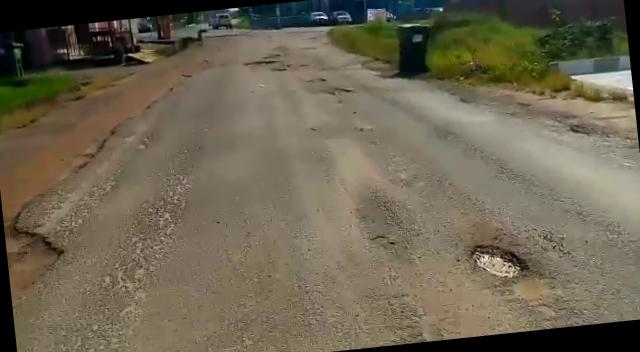pothole: (468, 237, 534, 286), (325, 84, 354, 96)
